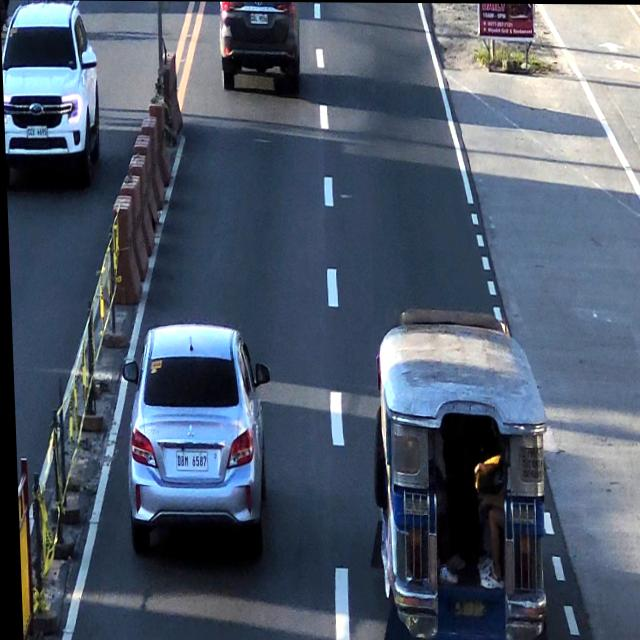Car: (125, 319, 263, 530), (214, 1, 302, 91)
Jeep: (366, 309, 546, 640)
License-Plate: (445, 597, 485, 621), (171, 447, 206, 474), (249, 13, 269, 26)
